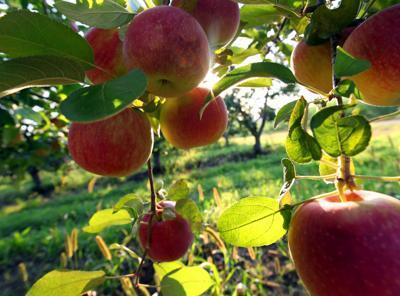apple: (286, 184, 400, 296), (121, 4, 209, 99), (338, 4, 400, 106), (66, 109, 153, 177), (155, 1, 238, 65), (160, 86, 229, 151), (137, 207, 193, 261), (82, 25, 128, 85), (293, 32, 339, 92)
